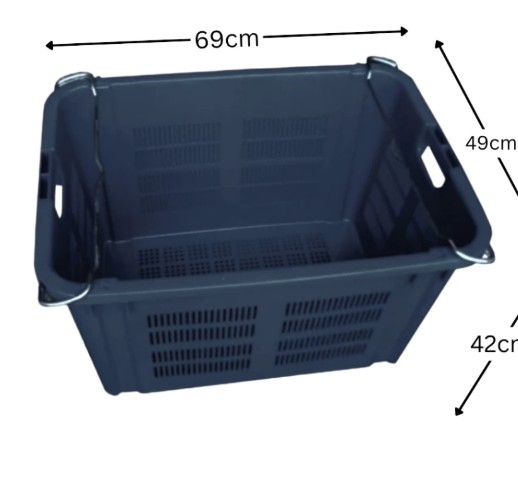bulk_waste: (34, 57, 493, 393)
